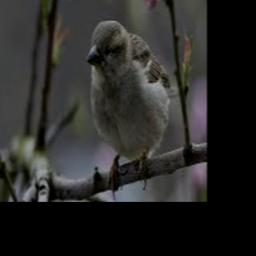Sparrow: (86, 19, 179, 198)
